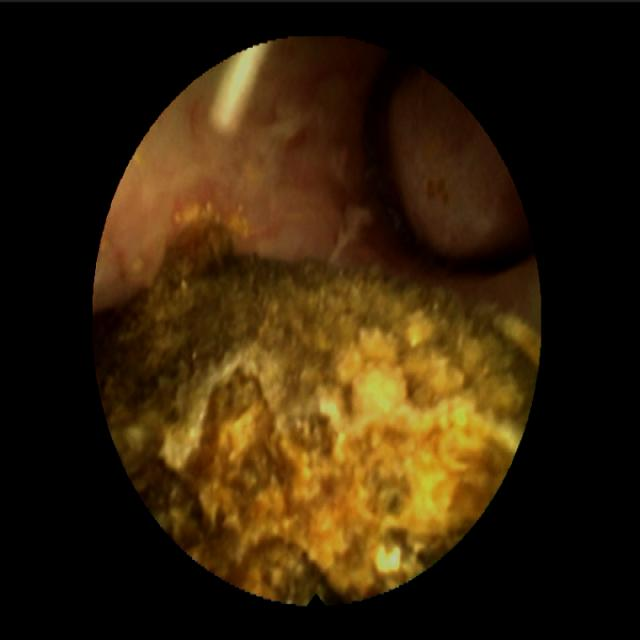stone: (101, 226, 533, 599)
